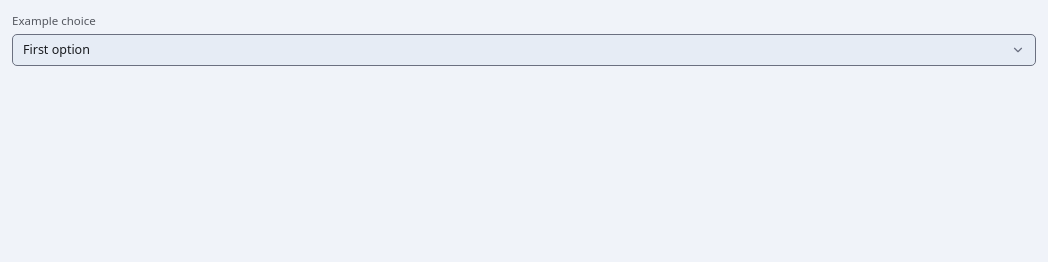
Scenario: chooses the option that is pressed
Click the dropdown named "Example choice" at x=56, y=49, box [12, 34, 1036, 66]
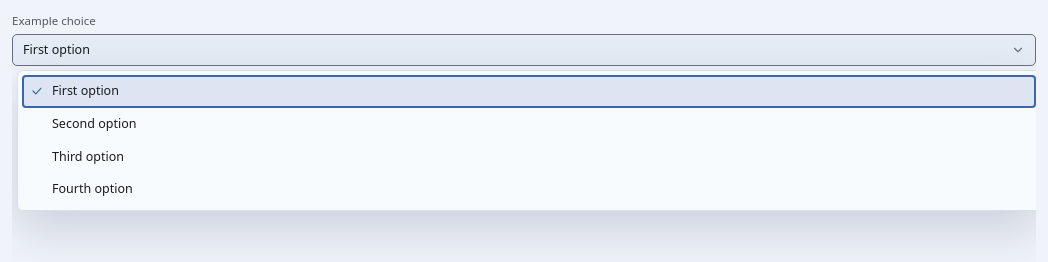
Click the option "Fourth option" at x=92, y=189, box [52, 180, 133, 197]
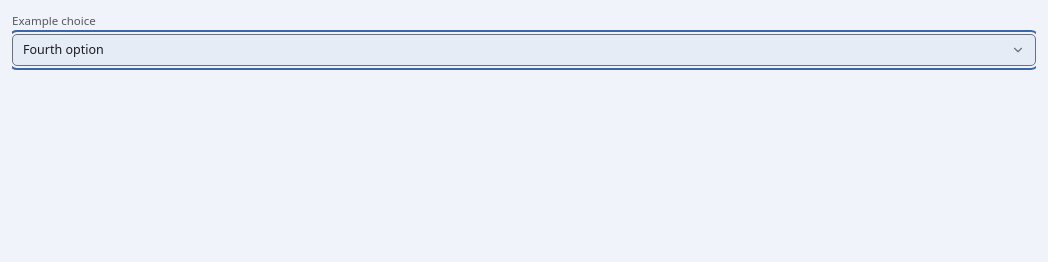
Now the dropdown named "Example choice" reads "Fourth option", box [12, 34, 1036, 66]
